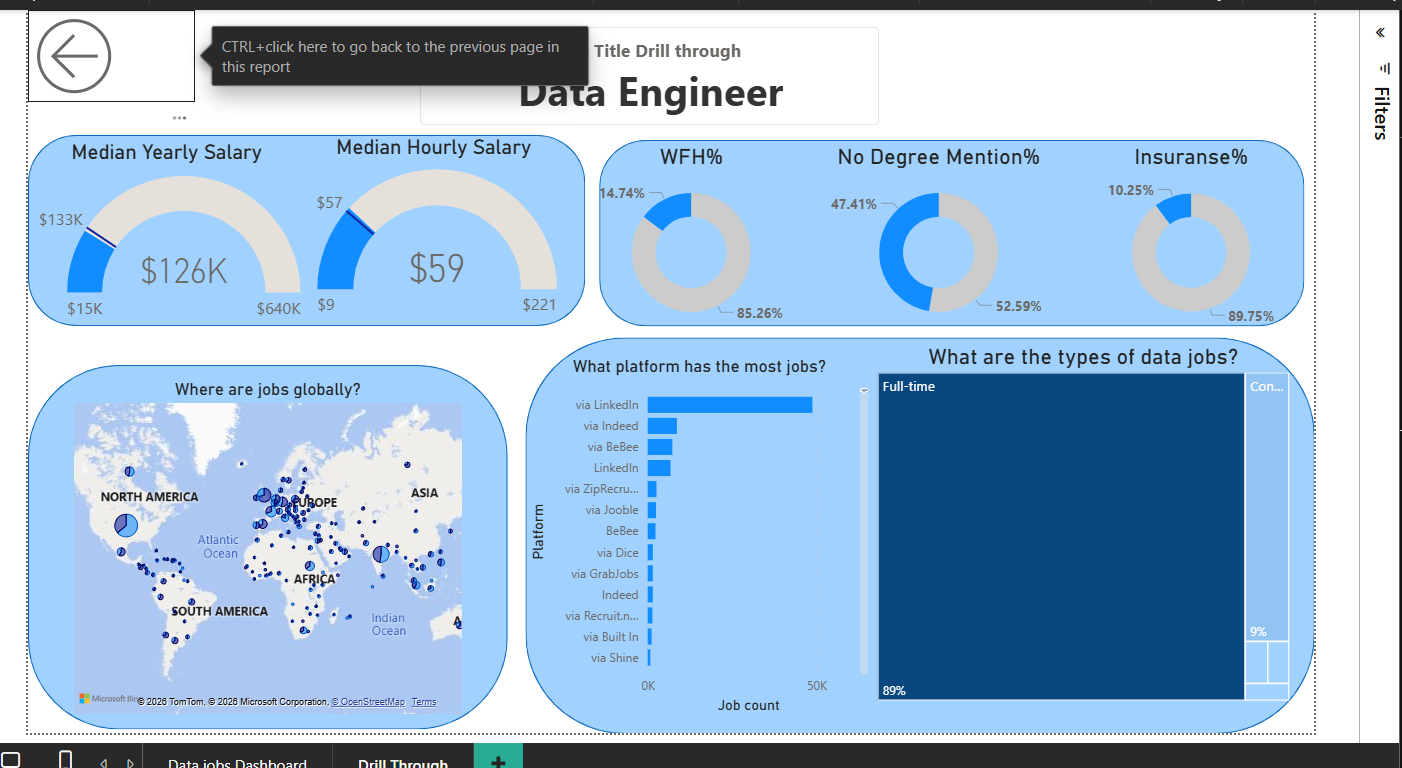

The dashboard page shown, as its layout file describes it:
{"tool":"powerbi","page":{"name":"Drill Through","canvas":[1280,720],"ordinal":1},"visuals":[{"type":"group","id":"g1","title":"Group 1","box":[0,124.5,1280,595.9],"z":0},{"type":"cardVisual","fields":{"Data":["Min(job_postings_flat.job_title_short)"]},"box":[372.7,0,491.8,132.7],"z":1000},{"type":"actionButton","box":[0,0,166.4,91.8],"z":2000},{"type":"shape","box":[0,124.5,554.5,190],"z":2000,"group":"g1"},{"type":"gauge","title":"Median Yearly Salary","fields":{"Y":["Median(job_postings_flat.salary_year_avg)"],"MaxValue":["Max(job_postings_flat.salary_year_avg)1"],"MinValue":["Min(job_postings_flat.salary_year_avg)2"],"TargetValue":["Avg(job_postings_flat.salary_year_avg)3"]},"box":[0,129.1,276.4,196.4],"z":3000},{"type":"shape","box":[0,354,477.3,362.7],"z":3000,"group":"g1"},{"type":"gauge","title":"Median Hourly Salary","fields":{"Y":["Median(job_postings_flat.salary_hour_avg)"],"MinValue":["Min(job_postings_flat.salary_hour_avg)"],"MaxValue":["Max(job_postings_flat.salary_hour_avg)"],"TargetValue":["Avg(job_postings_flat.salary_hour_avg)"]},"box":[276.4,124.5,255.5,196.4],"z":4000},{"type":"shape","box":[494.5,325.8,785.5,394.5],"z":4000,"group":"g1"},{"type":"shape","box":[568.2,129,701.8,185.5],"z":5000,"group":"g1"},{"type":"donutChart","title":"No Degree Mention%","fields":{"Category":["job_postings_flat.job_no_degree_mention"],"Y":["CountNonNull(job_postings_flat.job_work_from_home)"]},"box":[779.1,132.7,255.5,192.7],"z":5000},{"type":"donutChart","title":"Insuranse%","fields":{"Category":["job_postings_flat.job_health_insurance"],"Y":["CountNonNull(job_postings_flat.job_work_from_home)"]},"box":[1034.5,132.7,245.5,192.7],"z":6000},{"type":"donutChart","title":"WFH%","fields":{"Category":["job_postings_flat.job_work_from_home"],"Y":["CountNonNull(job_postings_flat.job_work_from_home)"]},"box":[531.8,132.7,255.5,192.7],"z":7000},{"type":"map","title":"Where are jobs globally?","fields":{"Category":["job_postings_flat.job_country"],"Size":["CountNonNull(job_postings_flat.job_title_short)"],"Series":["job_postings_flat.job_no_degree_mention"]},"box":[40.9,366.4,395.5,338.2],"z":8000},{"type":"treemap","title":"What are the types of data jobs?","fields":{"Group":["job_postings_flat.job_schedule_type"],"Values":["CountNonNull(job_postings_flat.job_schedule_type)"]},"box":[840.9,331.8,419.1,360],"z":9000},{"type":"barChart","title":"What platform has the most jobs?","fields":{"Category":["job_postings_flat.job_via"],"Y":["CountNonNull(job_postings_flat.job_title_short)"]},"box":[494.5,344.5,346.4,360],"z":10000}]}

Visuals, with their boxes on the page's 1280x720 design canvas (x1, y1, x2, y2). These are canvas units, not pixel positions in the 1402x768 screenshot, which may show the page scaled, cropped or inside an application window:
"Group 1" group: x1=0, y1=124, x2=1280, y2=720
cardVisual - Min(job_postings_flat.job_title_short): x1=373, y1=0, x2=864, y2=133
actionButton: x1=0, y1=0, x2=166, y2=92
shape: x1=0, y1=124, x2=554, y2=314
"Median Yearly Salary" gauge: x1=0, y1=129, x2=276, y2=326
shape: x1=0, y1=354, x2=477, y2=717
"Median Hourly Salary" gauge: x1=276, y1=124, x2=532, y2=321
shape: x1=494, y1=326, x2=1280, y2=720
shape: x1=568, y1=129, x2=1270, y2=314
"No Degree Mention%" donutChart: x1=779, y1=133, x2=1035, y2=325
"Insuranse%" donutChart: x1=1034, y1=133, x2=1280, y2=325
"WFH%" donutChart: x1=532, y1=133, x2=787, y2=325
"Where are jobs globally?" map: x1=41, y1=366, x2=436, y2=705
"What are the types of data jobs?" treemap: x1=841, y1=332, x2=1260, y2=692
"What platform has the most jobs?" barChart: x1=494, y1=344, x2=841, y2=704
